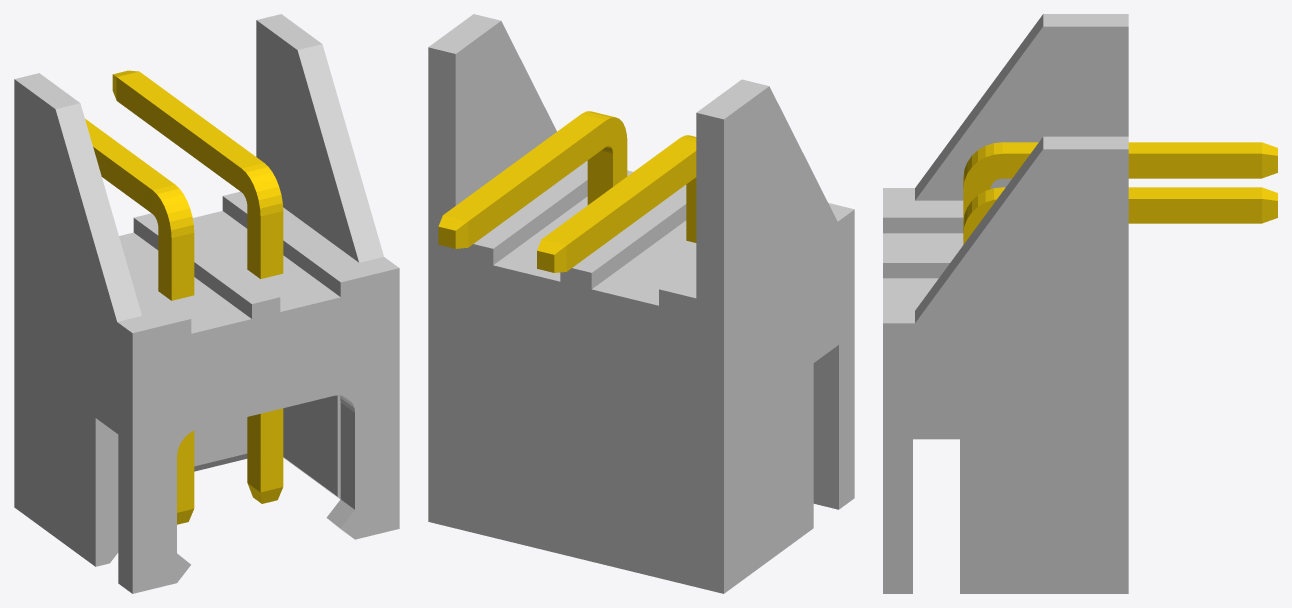
The model's file is DS1069-2 CWF-2R.obj.
3 views of the same model, side by side, from view 1: azimuth 30°, elevation 25°; view 2: azimuth 150°, elevation 25°; view 3: azimuth 270°, elevation 25° (orthographic). The views are drawn at different scales.
Parts seen in each view (by area): view 1: DS1069-2_CWF-2R; view 2: DS1069-2_CWF-2R; view 3: DS1069-2_CWF-2R.
Boxes of the visible parts, bbox=[...] form: DS1069-2_CWF-2R: bbox=[14, 14, 399, 593]; DS1069-2_CWF-2R: bbox=[428, 14, 854, 593]; DS1069-2_CWF-2R: bbox=[883, 14, 1277, 593].
Size of the model in its own units: 0.0139 by 0.0214 by 0.0172.
